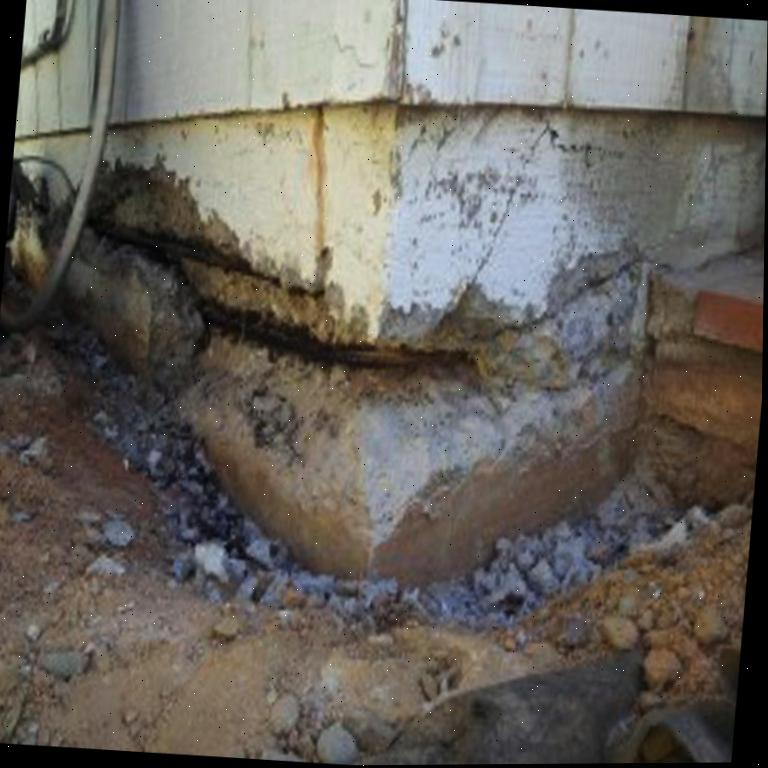exposed_rebar: (200, 299, 429, 365), (89, 214, 248, 267)
spalling: (78, 162, 648, 549)
